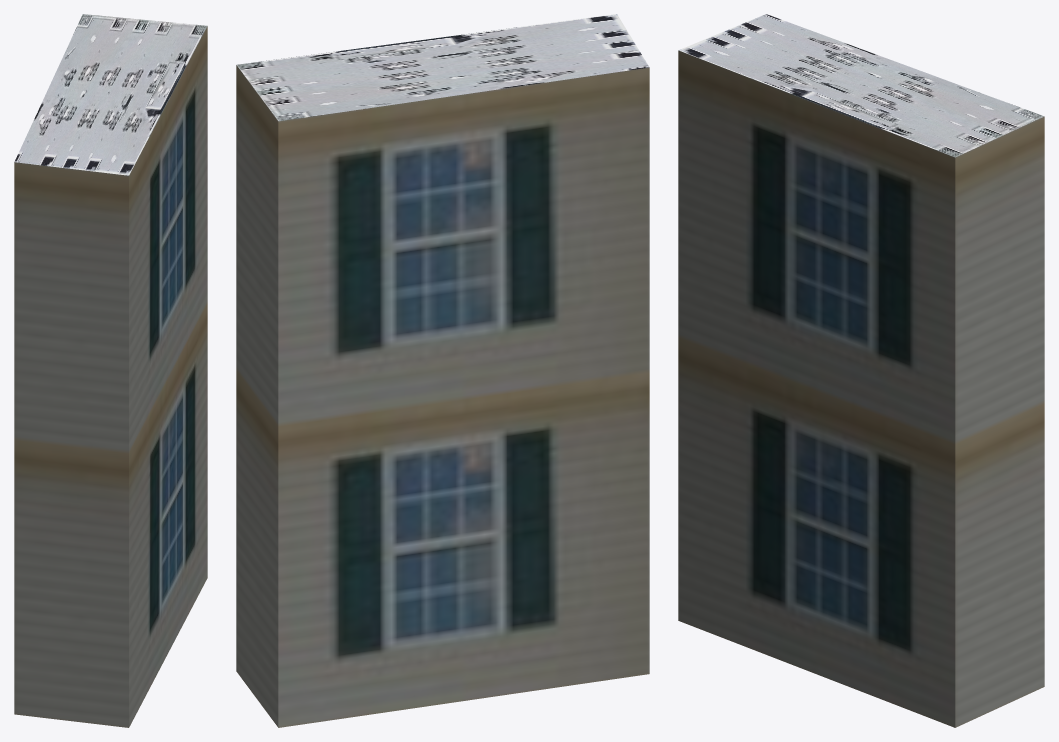
File: ResTex__3153.fbx
The picture shows the model from 3 angles, left to right: view 1: azimuth 30°, elevation 25°; view 2: azimuth 150°, elevation 25°; view 3: azimuth 270°, elevation 25°; orthographic projection. The views are drawn at different scales.
Parts seen in each view (by area): view 1: CityEngineMaterial_7_m, CityEngineMaterial_8_m; view 2: CityEngineMaterial_7_m, CityEngineMaterial_8_m; view 3: CityEngineMaterial_7_m, CityEngineMaterial_8_m.
Part boxes in pixels (x1,y1,x2,y2): CityEngineMaterial_7_m: [14, 26, 207, 727]; CityEngineMaterial_8_m: [14, 14, 207, 175]; CityEngineMaterial_7_m: [236, 65, 649, 727]; CityEngineMaterial_8_m: [236, 14, 649, 121]; CityEngineMaterial_7_m: [678, 50, 1044, 727]; CityEngineMaterial_8_m: [679, 14, 1043, 157].
Bounding box in the file's own units: 3.24 × 6 × 3.49.
Materials: 2 (2 with a texture image).
